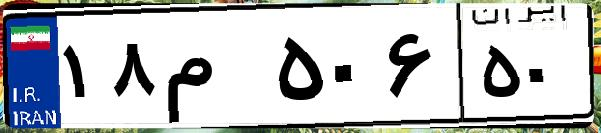0: (330, 28, 385, 110), (525, 38, 570, 115)
1: (57, 26, 110, 100)
5: (270, 28, 330, 110), (475, 38, 525, 113)
6: (385, 28, 445, 110)
8: (110, 28, 158, 98)
م: (158, 20, 270, 120)
